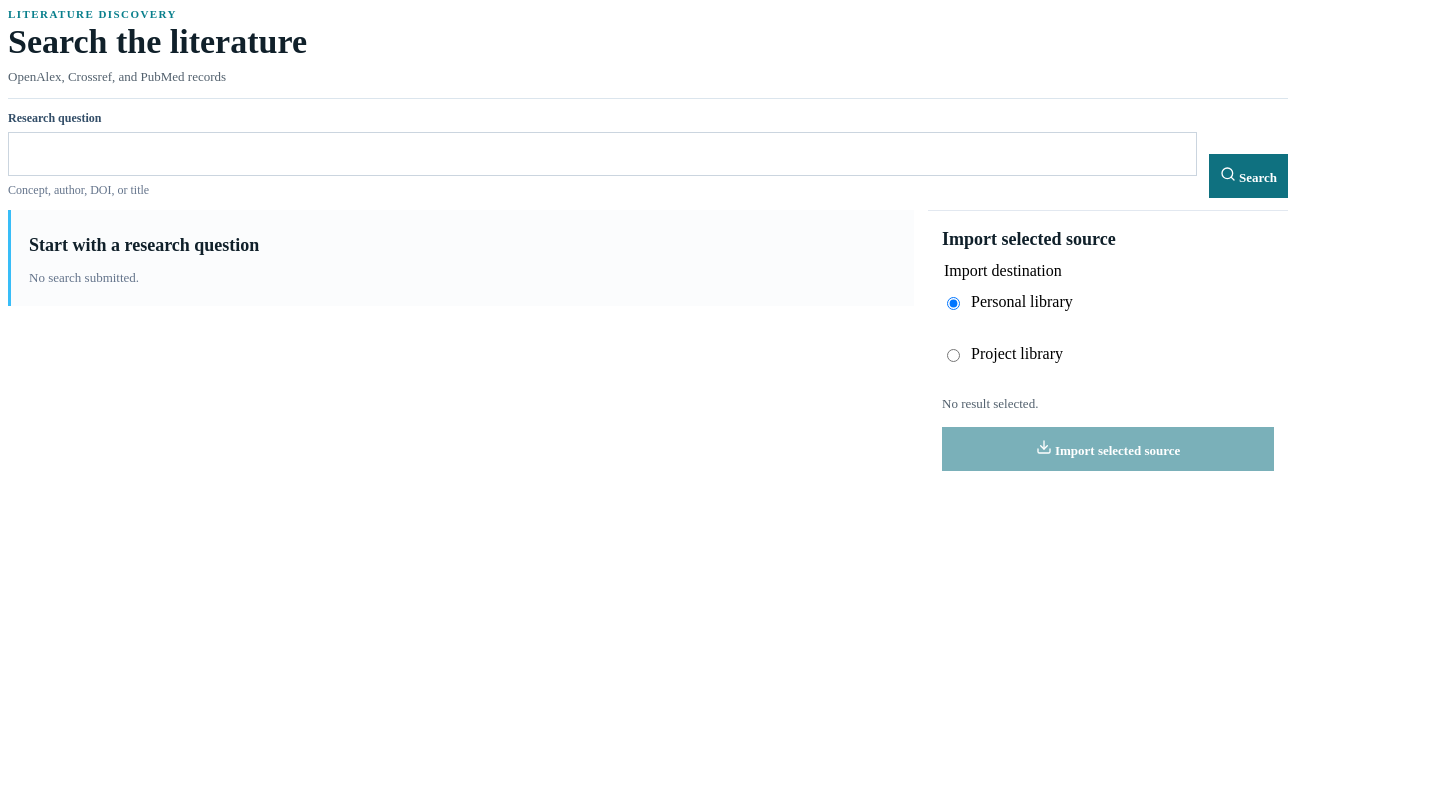
Test: LiteratureSearchPage › distinguishes open, closed, and unavailable access states
Type "access states" into the field with test id "literature-search-query" at coordinates (602, 154), box [8,132,1197,176]
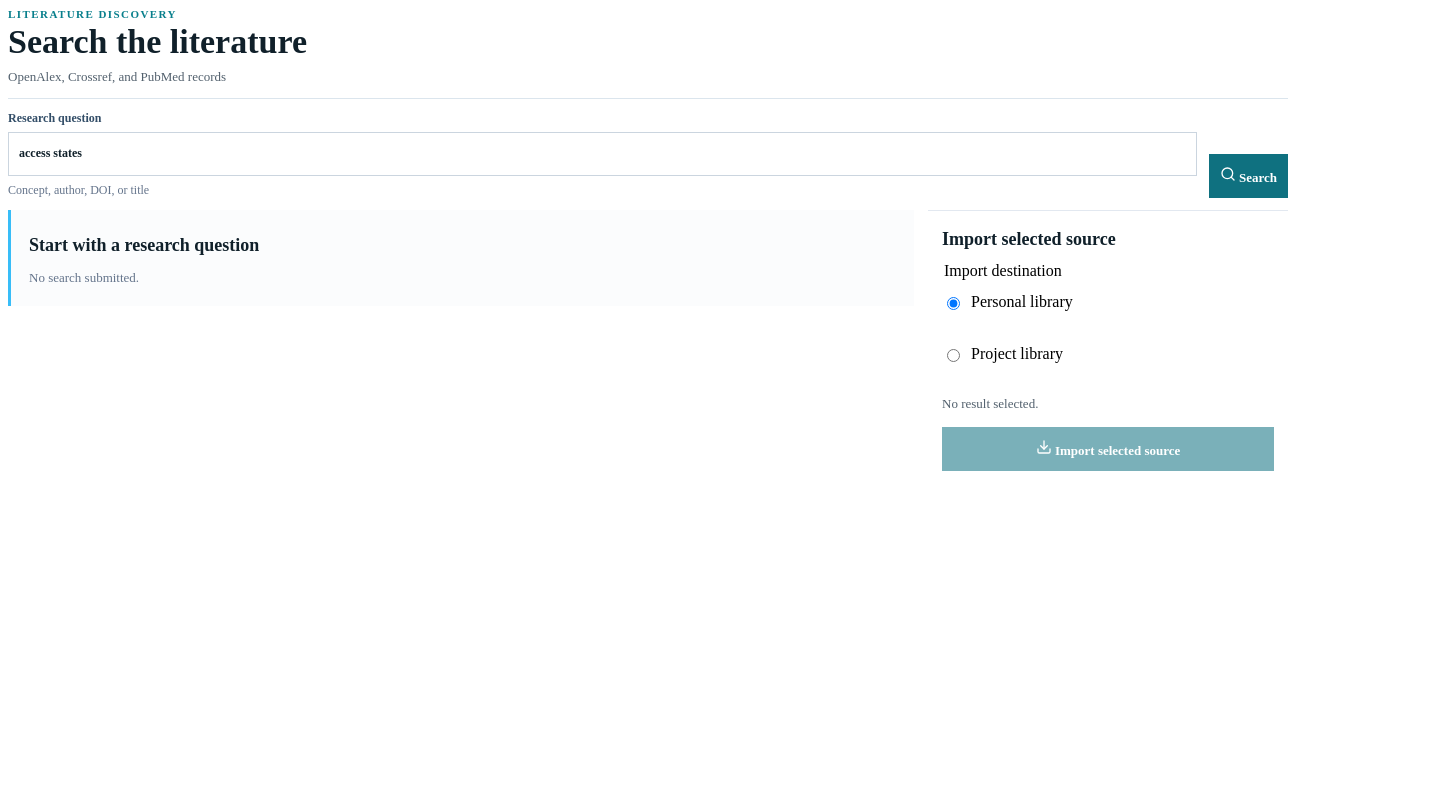
Submit the form with test id "literature-search-submit", box [8,110,1288,198]
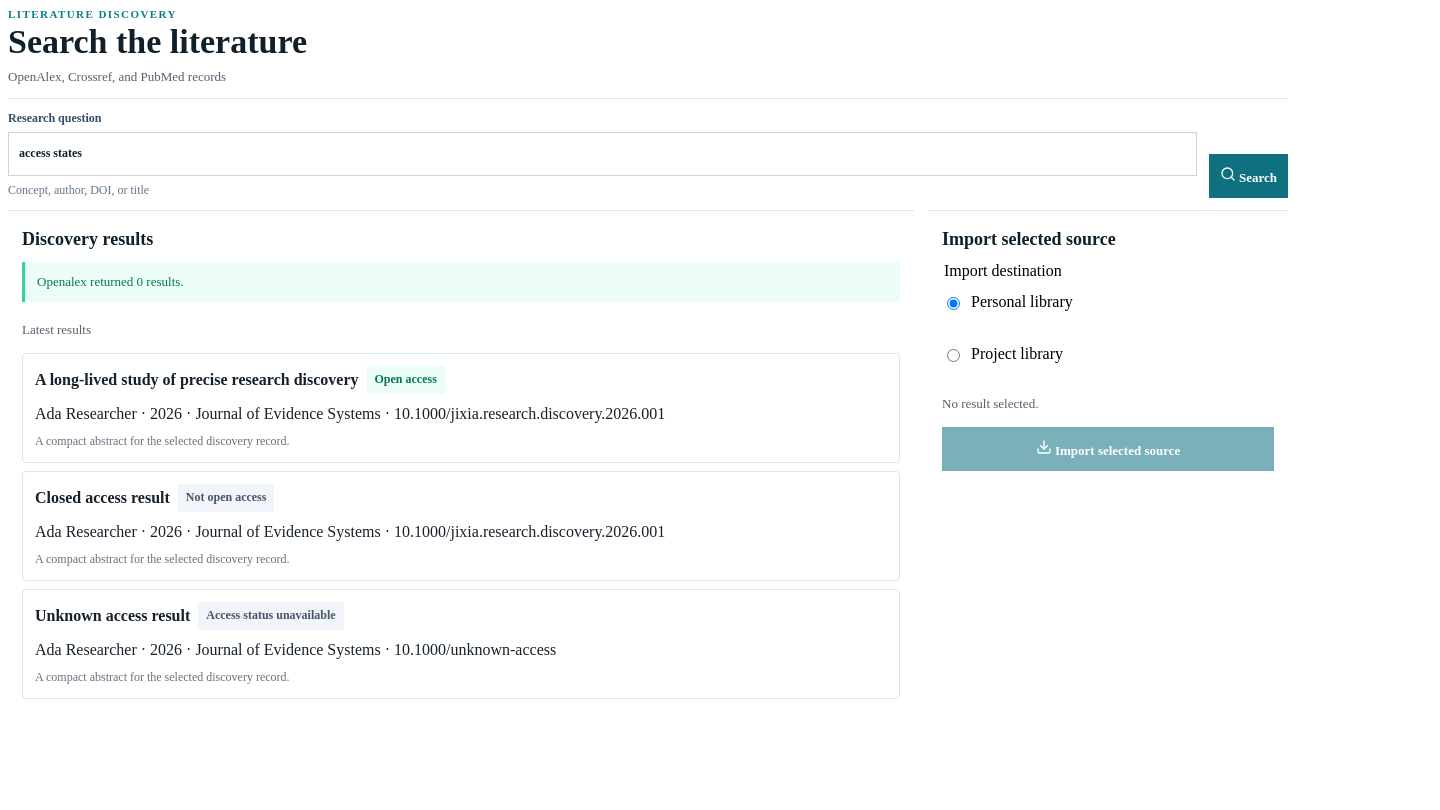
Expected: the text "Open access" is shown, [366,366,445,394]
Expected: the text "Not open access" is shown, [178,484,274,512]
Expected: the text "Access status unavailable" is shown, [198,602,344,630]
